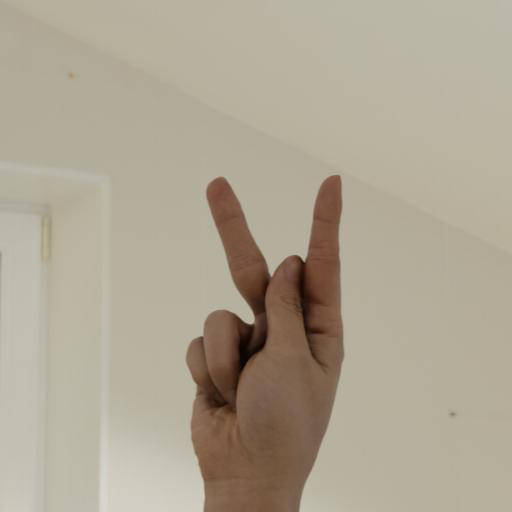K: (178, 172, 346, 467)
